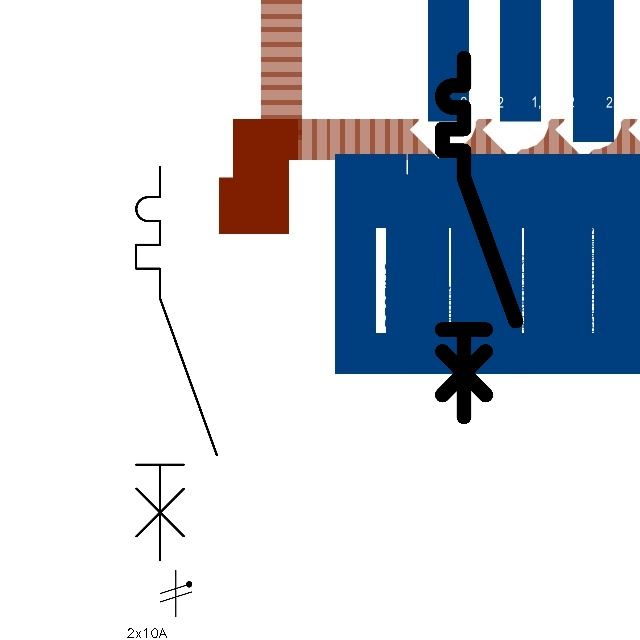interruptor_termomagnetico: (126, 157, 227, 570), (433, 49, 525, 426)
